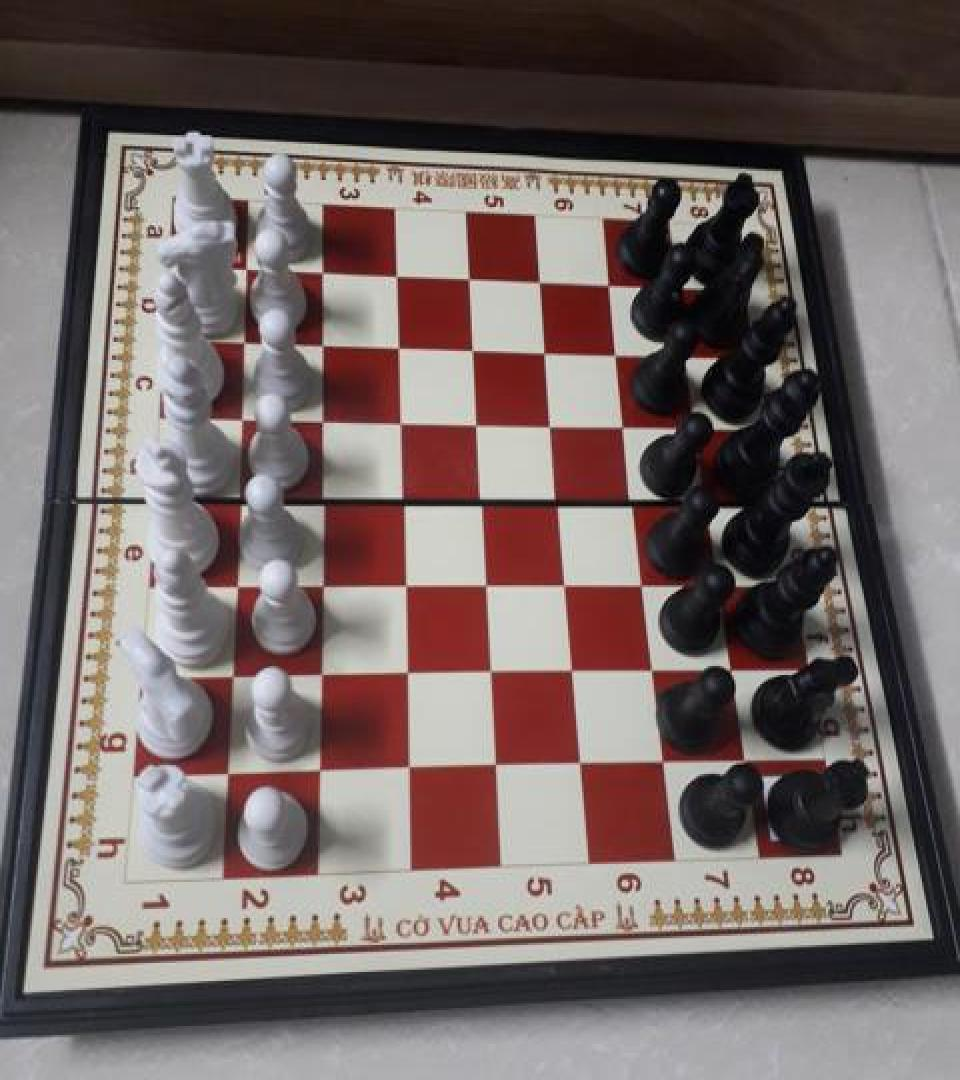xcorner: (669, 270, 699, 304), (600, 266, 630, 300), (529, 264, 559, 298), (457, 262, 487, 296), (384, 260, 414, 294), (309, 256, 339, 290), (233, 254, 263, 288), (607, 336, 637, 370), (534, 334, 564, 368), (460, 332, 490, 366), (385, 330, 415, 364), (230, 326, 260, 360), (687, 410, 717, 444), (614, 410, 644, 444), (540, 407, 570, 441), (464, 406, 494, 440), (386, 405, 416, 439), (307, 404, 337, 438), (227, 402, 257, 436), (697, 486, 727, 520), (622, 486, 652, 520), (545, 485, 575, 519), (467, 485, 497, 519), (388, 484, 418, 518), (307, 484, 337, 518), (707, 567, 737, 601), (630, 567, 660, 601), (552, 568, 582, 602), (471, 568, 501, 602), (389, 568, 419, 602), (306, 568, 336, 602), (220, 568, 250, 602), (639, 654, 669, 688), (558, 654, 588, 688), (475, 656, 505, 690), (391, 657, 421, 691), (305, 658, 335, 692), (217, 659, 247, 693), (730, 744, 760, 778), (649, 746, 679, 780), (565, 748, 595, 782), (480, 749, 510, 783), (304, 754, 334, 788), (213, 756, 243, 790), (678, 338, 708, 371), (308, 329, 338, 362), (224, 483, 254, 516), (718, 653, 748, 686), (393, 752, 423, 785)
